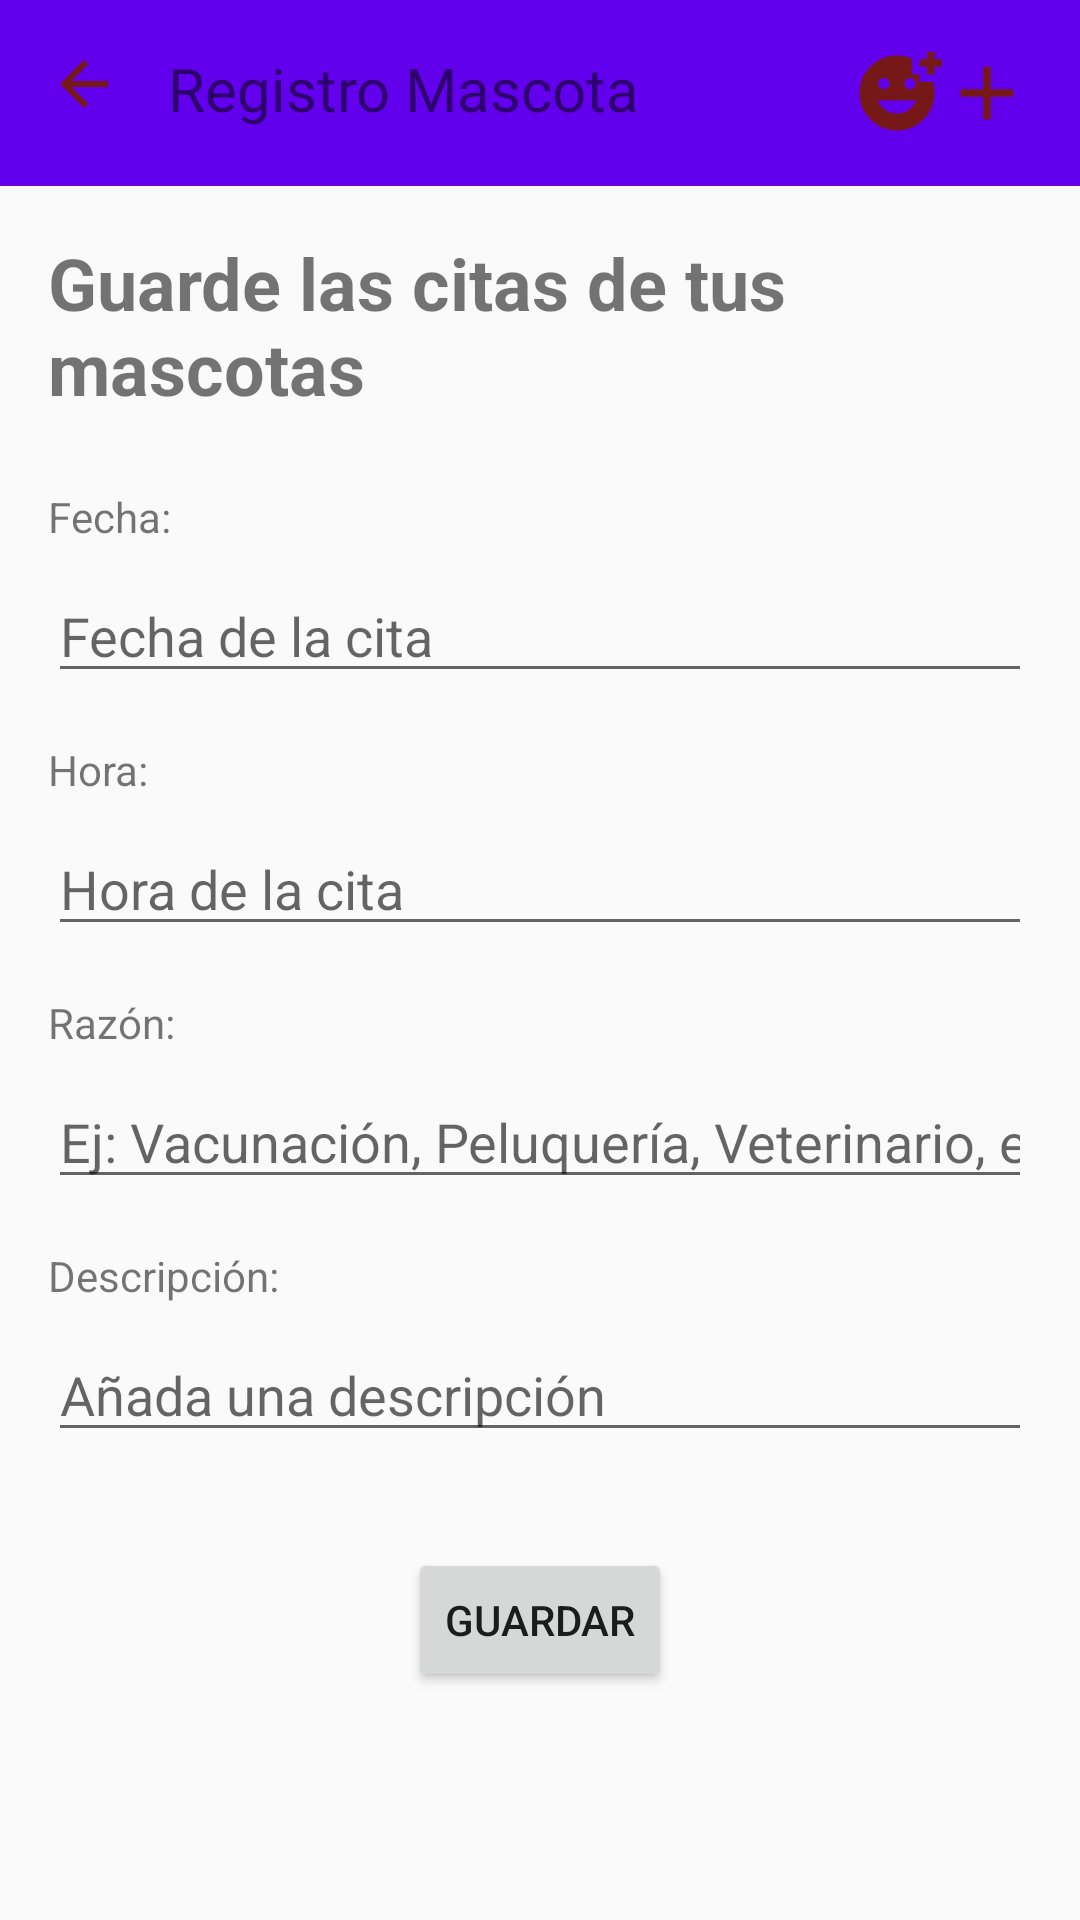

Icon click points for this 1080px x 1920px phone screenshot, format (x=x, y=y):
add: (x=987, y=93)
add reaction: (x=900, y=91)
arrow back: (x=84, y=84)
